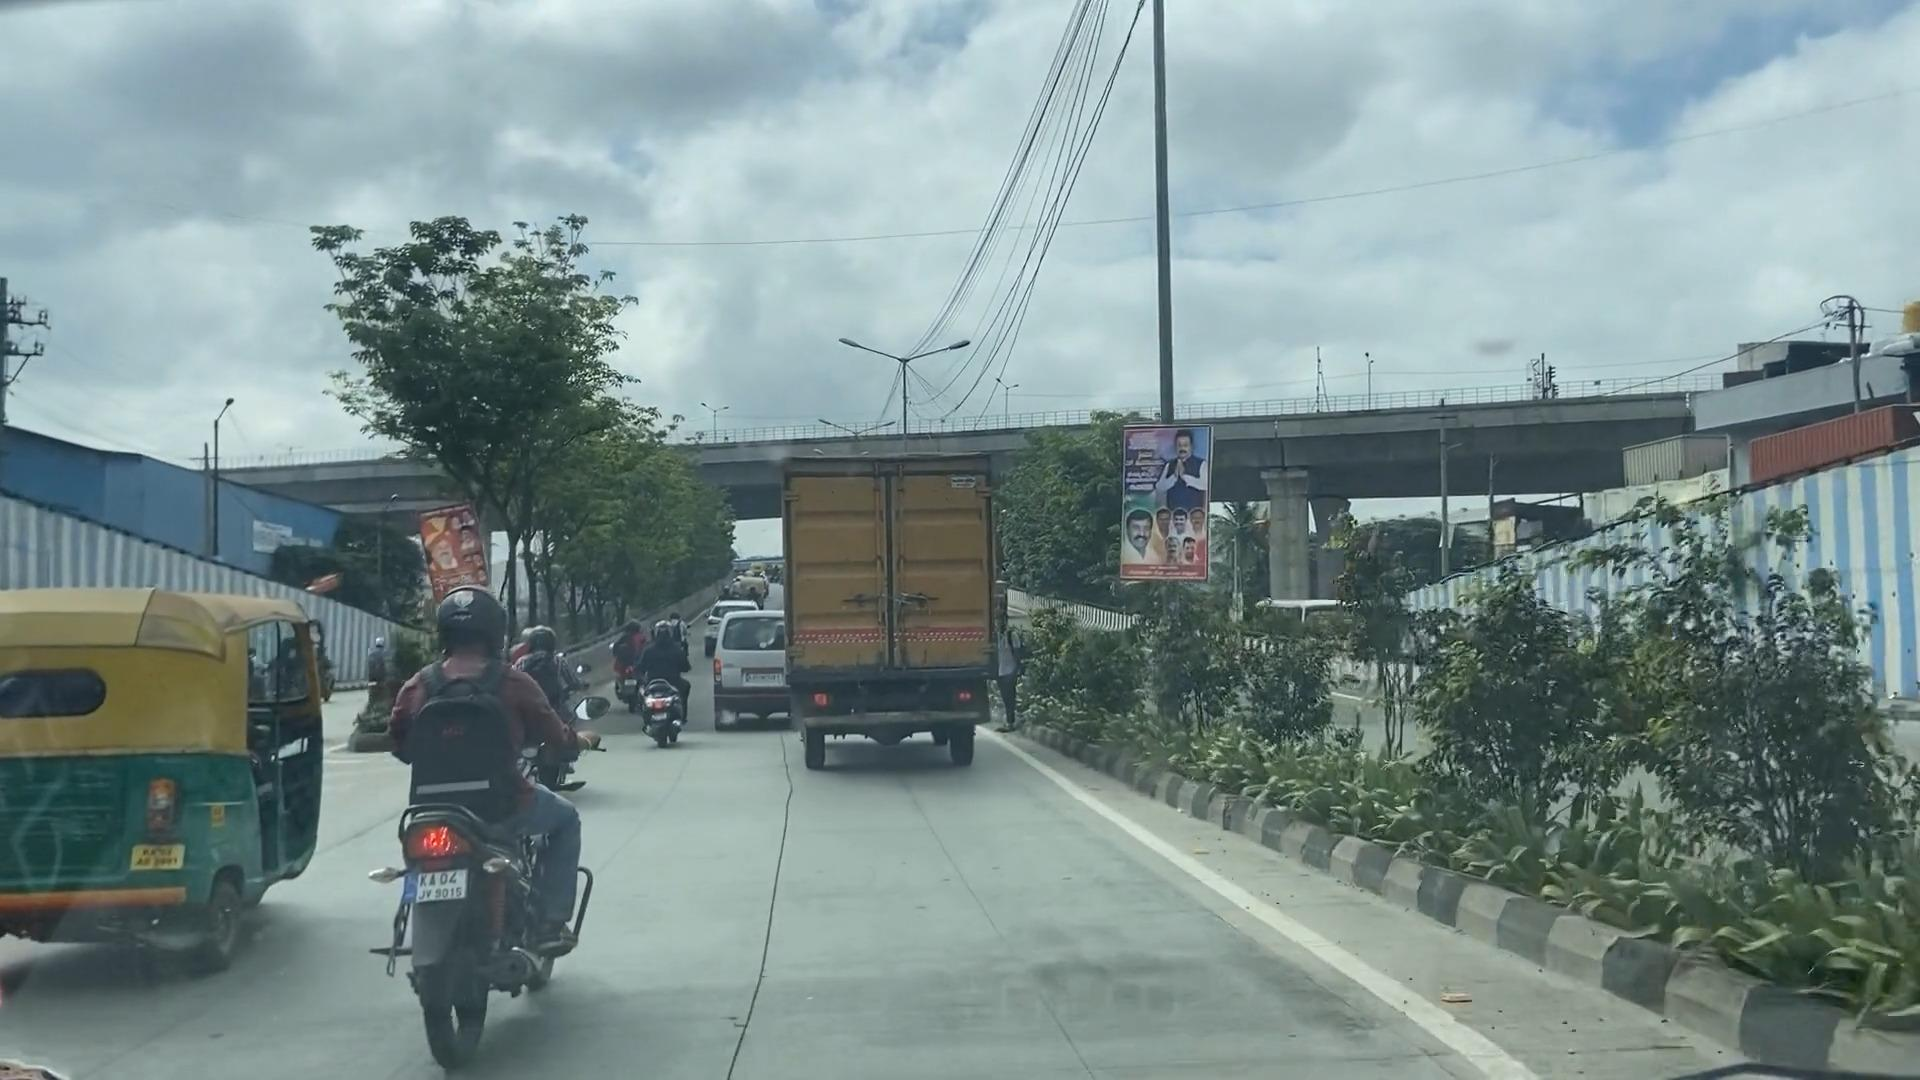HMV: (787, 454, 1004, 778)
LMV: (394, 611, 587, 1022), (640, 593, 690, 733)
